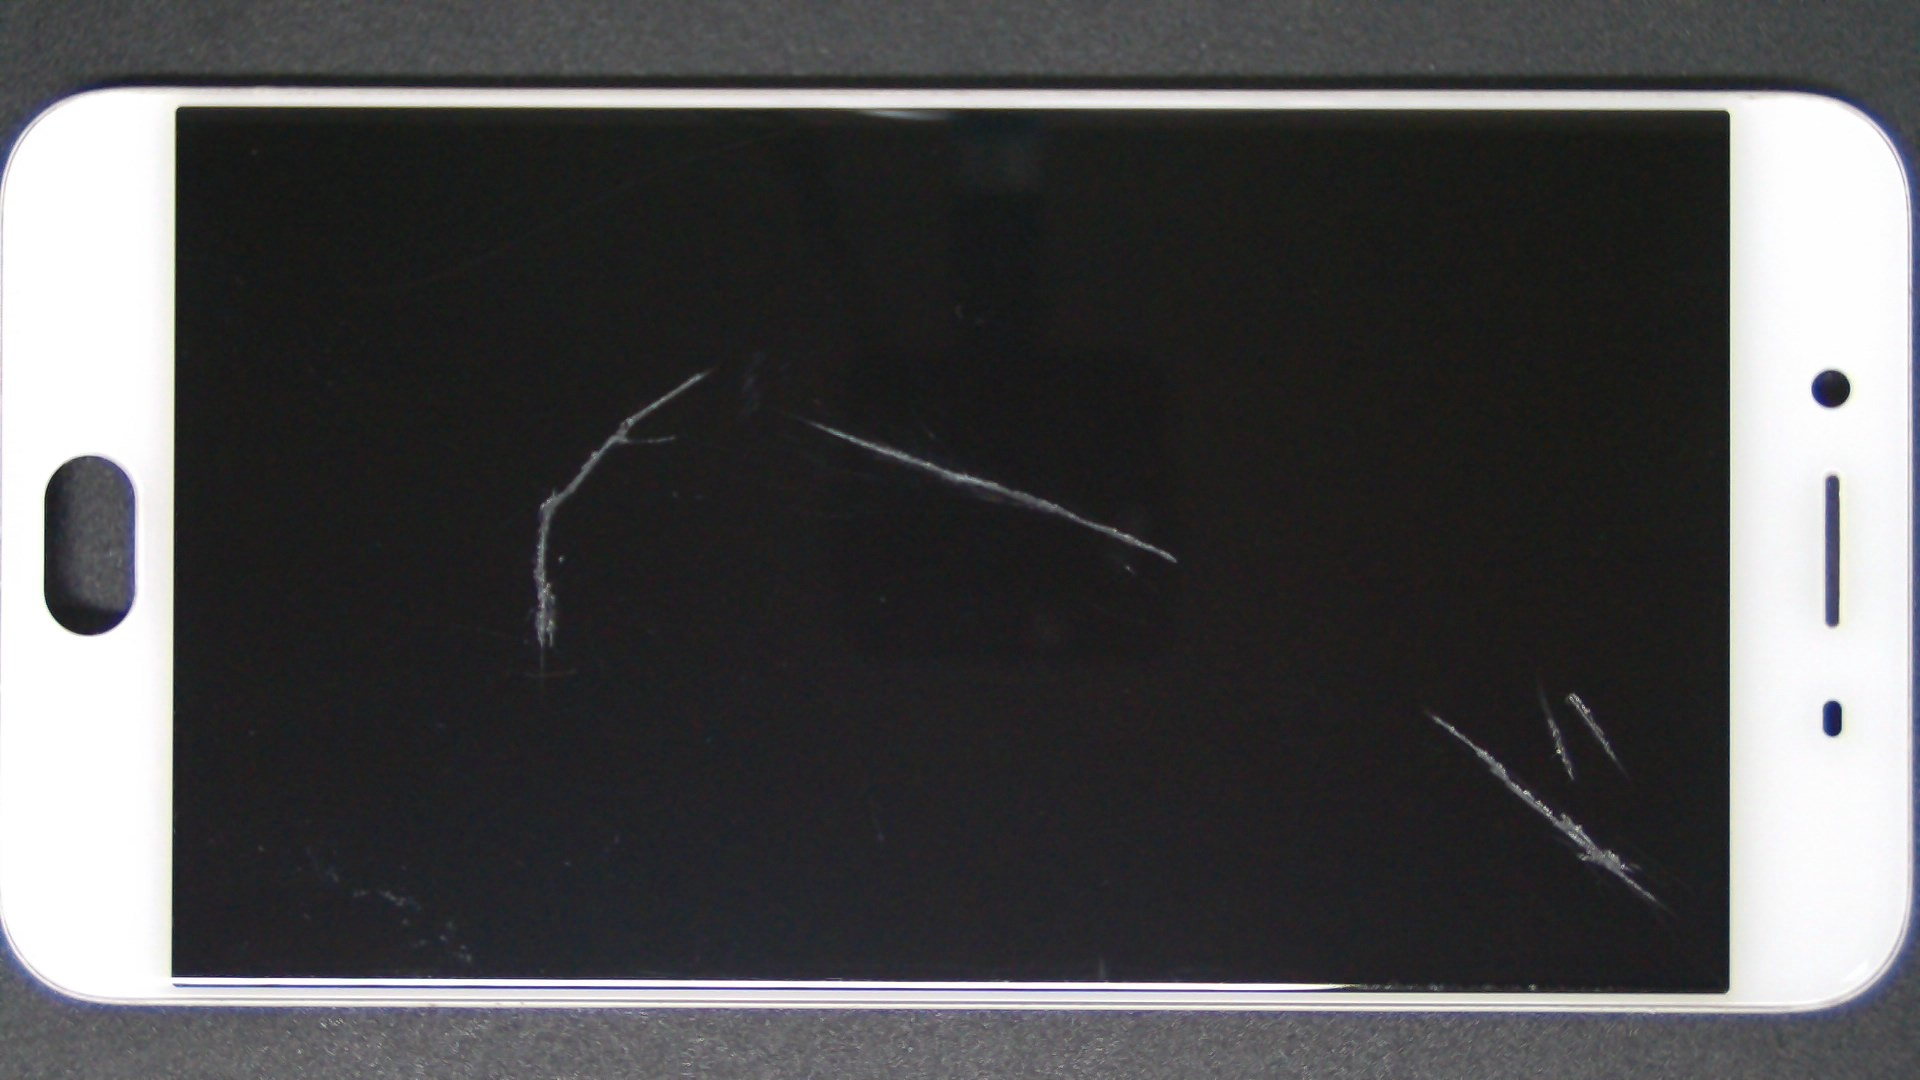oil: (716, 356, 1920, 1073), (771, 351, 1920, 1055), (785, 345, 1920, 1039), (407, 210, 1221, 632), (349, 185, 1044, 559)
